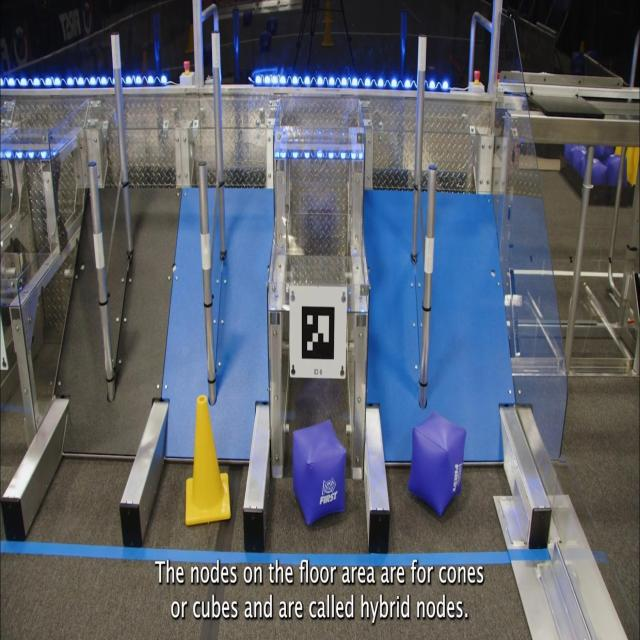frc_cone: (186, 396, 230, 526), (622, 144, 635, 186), (630, 142, 640, 182)
frc_cube: (293, 420, 346, 526), (410, 412, 464, 514), (604, 154, 626, 189), (584, 156, 606, 189), (590, 139, 615, 157), (572, 144, 588, 172), (564, 137, 580, 160)
